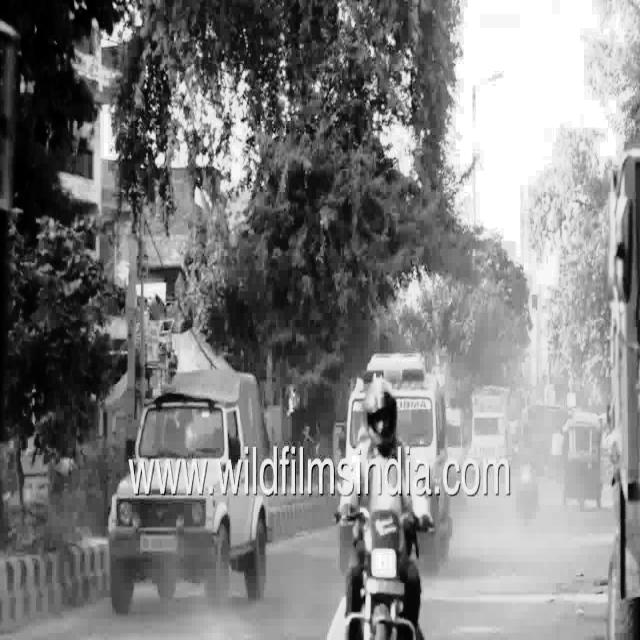Ambulance: (345, 353, 448, 454)
